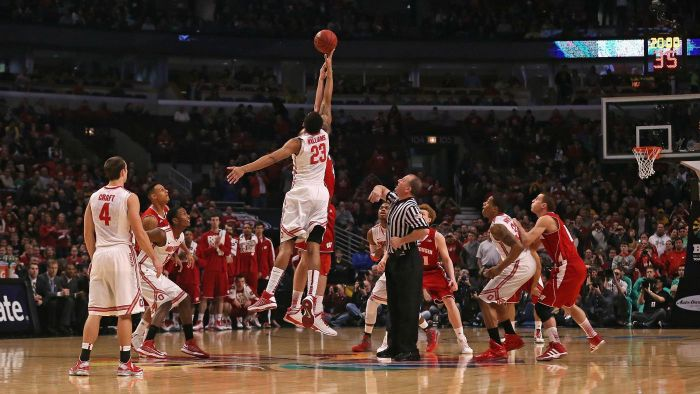basketball: (313, 27, 339, 57)
basketball player: (227, 49, 340, 329), (71, 154, 145, 377), (526, 191, 608, 365), (471, 195, 537, 368), (142, 208, 197, 360), (421, 202, 475, 354), (350, 200, 388, 348)
referee: (374, 176, 429, 364)
